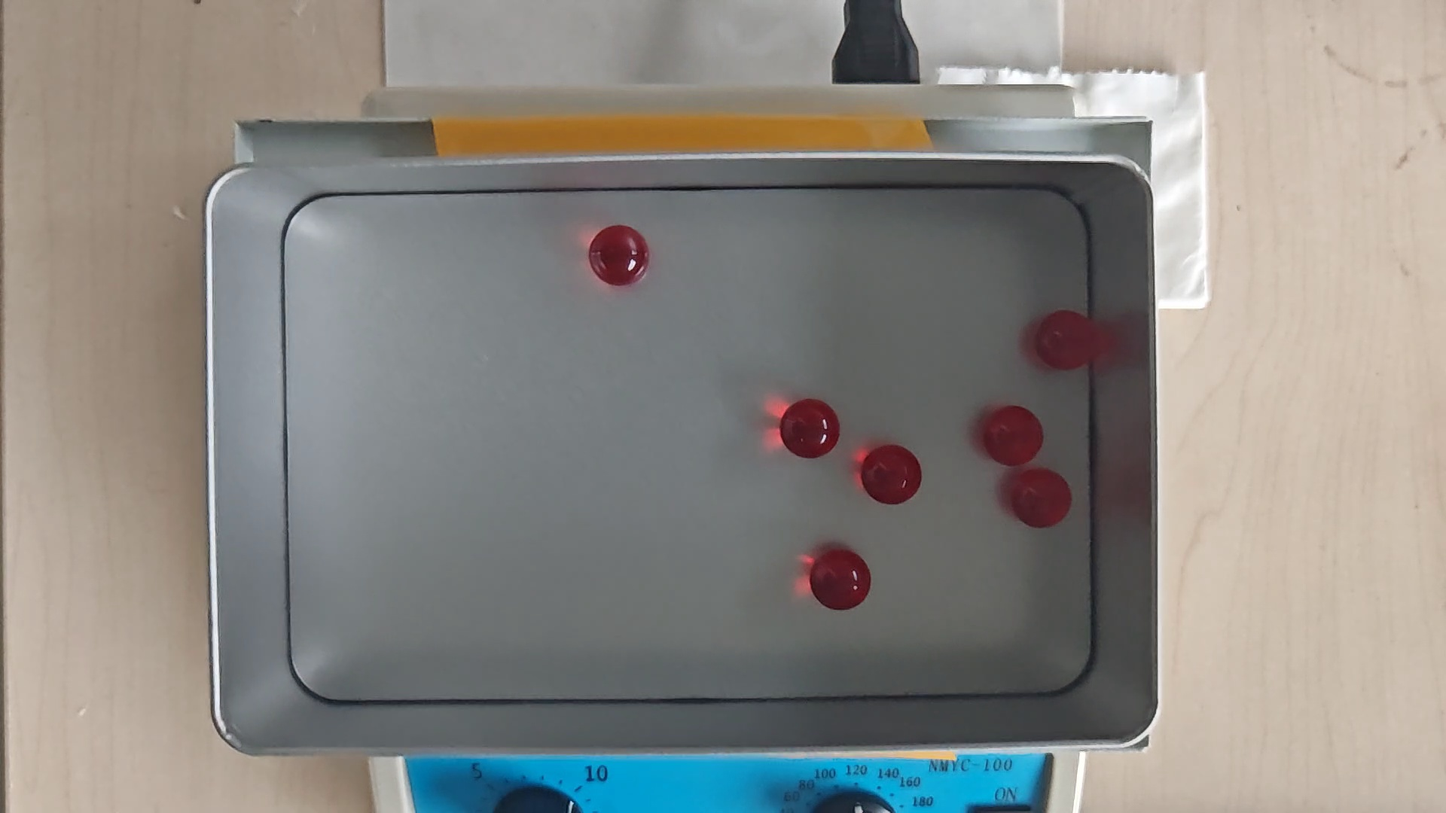ball: (588, 224, 650, 288), (809, 549, 871, 613), (779, 397, 841, 460), (982, 405, 1042, 468), (859, 445, 923, 504), (1010, 468, 1072, 528), (1035, 310, 1097, 368)
container: (282, 187, 1097, 700)
